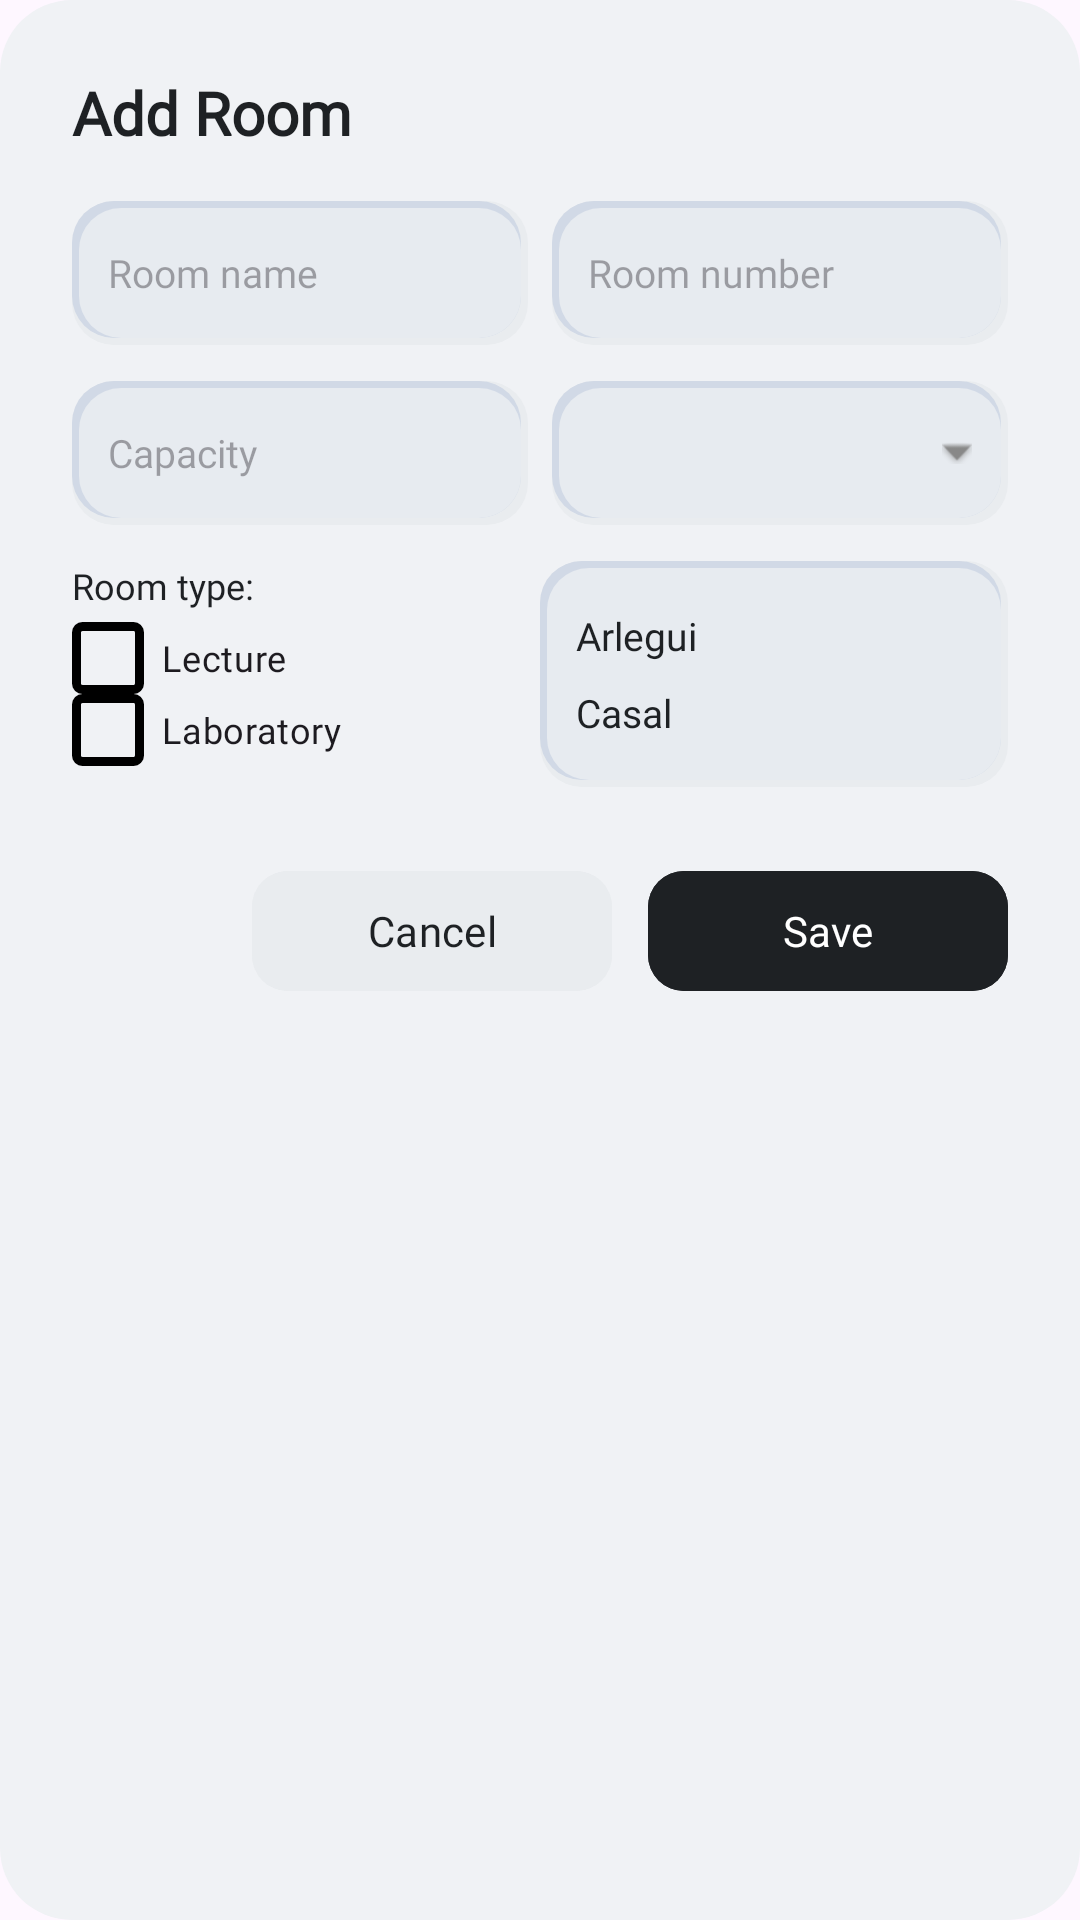

Icons on this 1080x1920 Android screen, each with the point to tap as (x,y):
arrow down float: (957,452)
